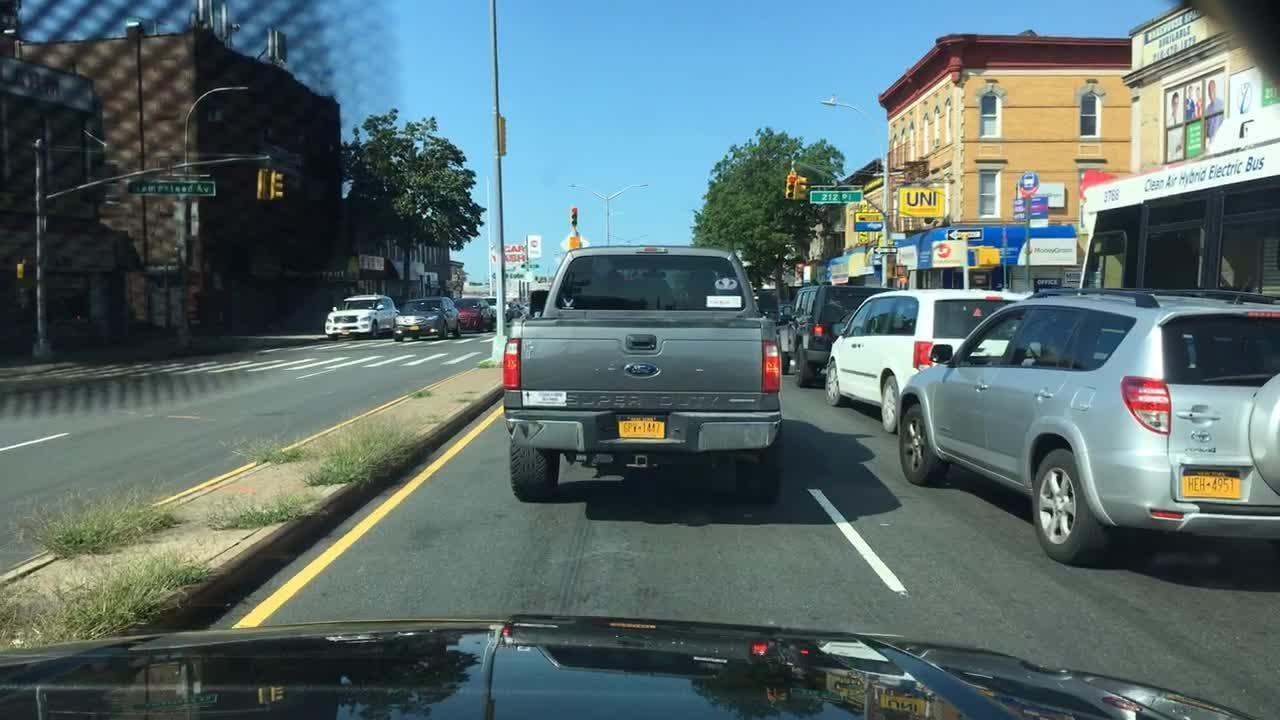Toyota: (1187, 425, 1216, 448)
ford: (616, 360, 673, 386)
